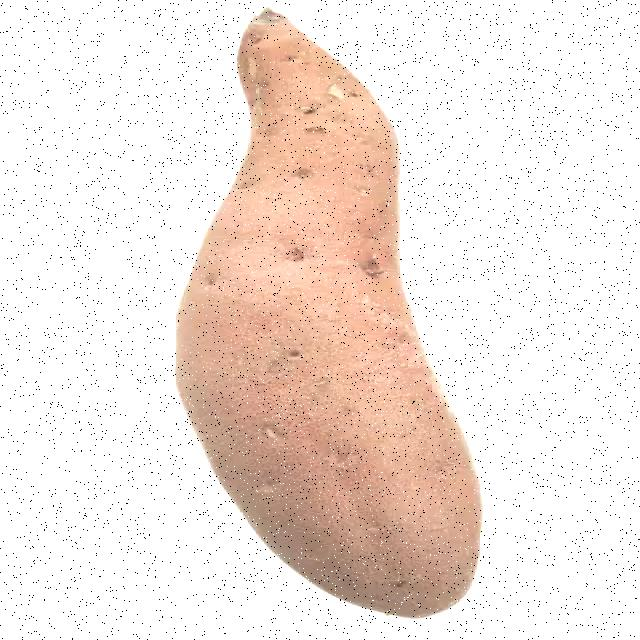Sweet Potato: (156, 7, 556, 640)
